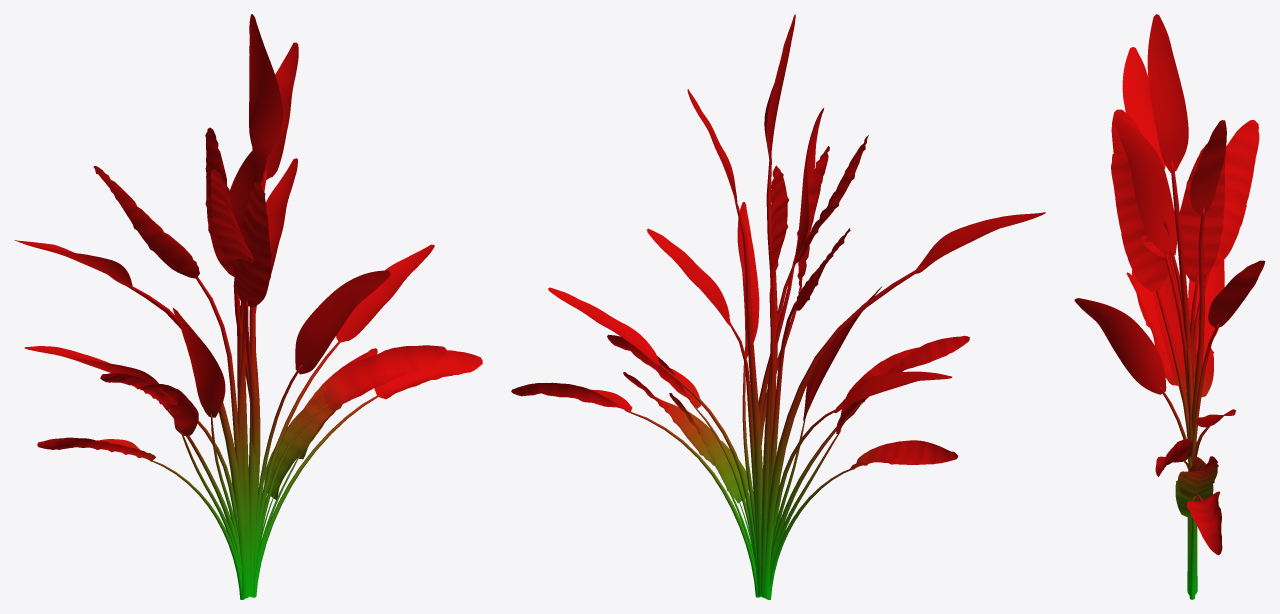
File: Bird Of Paradise_LOD2_Var3_wfypeifha.fbx
3 views of the same model, side by side, from view 1: azimuth 30°, elevation 25°; view 2: azimuth 150°, elevation 25°; view 3: azimuth 270°, elevation 25° (orthographic). The views are drawn at different scales.
Visible parts, largest first — view 1: _vzse_Var3_LOD2; view 2: _vzse_Var3_LOD2; view 3: _vzse_Var3_LOD2.
Boxes of the visible parts, x1,y1,x2,y2 form: _vzse_Var3_LOD2: [14, 14, 482, 599]; _vzse_Var3_LOD2: [511, 14, 1045, 599]; _vzse_Var3_LOD2: [1074, 14, 1265, 599].
Bounding box in the file's own units: 134 × 150 × 45.
